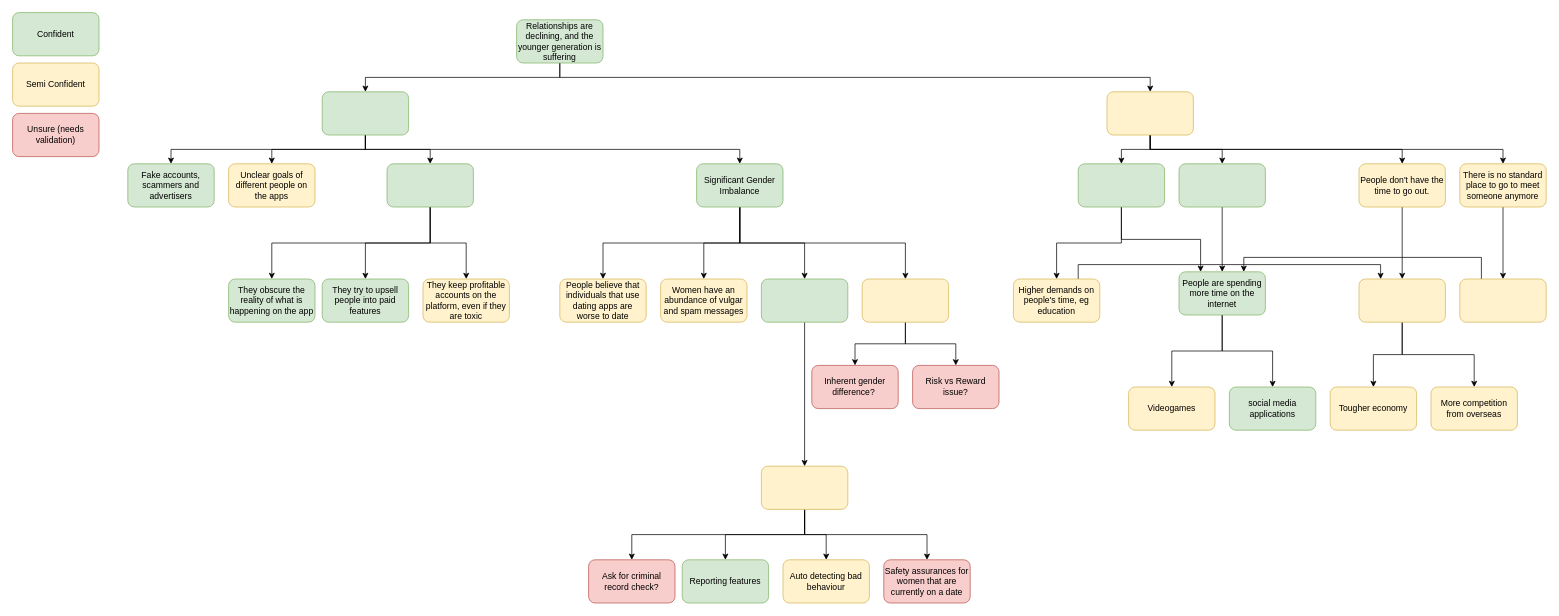
This 1559x616 diagram has some shape labels left out. Here are the shapes that lost their labels. From the top down, the centre of each, then its label:
(365,113): Online Dating is inefficient
(1149,113): Meeting people in person is difficult
(429,185): Profit Motives of Dating app Companies
(1121,185): People Spend more time inside now then before
(1221,185): A lot of people lack the social skills
(804,300): Women don't feel safe on dating apps
(905,300): Women have less interest in dating in general
(1401,300): Increased expectations in the job market
(1502,300): Bars and clubs are becoming less popular with young people
(804,487): Some men are dangerous and they can't tell on the app.
